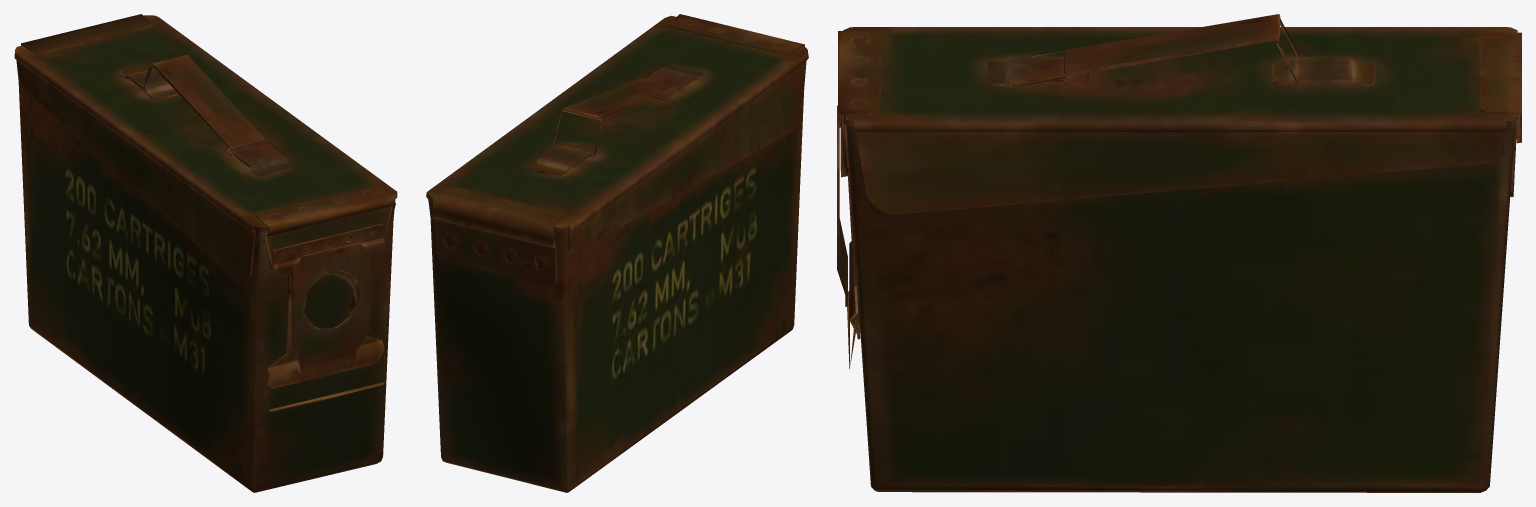
The model's file is ammo_box.glb.
3 renders of one model, left to right at view 1: azimuth 30°, elevation 25°; view 2: azimuth 150°, elevation 25°; view 3: azimuth 270°, elevation 25°, orthographic. The views are drawn at different scales.
Visible parts, largest first — view 1: ammo_box_handle_ring_b; view 2: ammo_box_handle_ring_b; view 3: ammo_box_handle_ring_b.
Boxes of the visible parts, x1=… form: ammo_box_handle_ring_b: x1=14, y1=14, x2=397, y2=492; ammo_box_handle_ring_b: x1=426, y1=14, x2=808, y2=492; ammo_box_handle_ring_b: x1=837, y1=14, x2=1521, y2=492.
Size of the model in its own units: 0.0864 by 0.1773 by 0.2576.
Materials: 1 (1 with a texture image).
